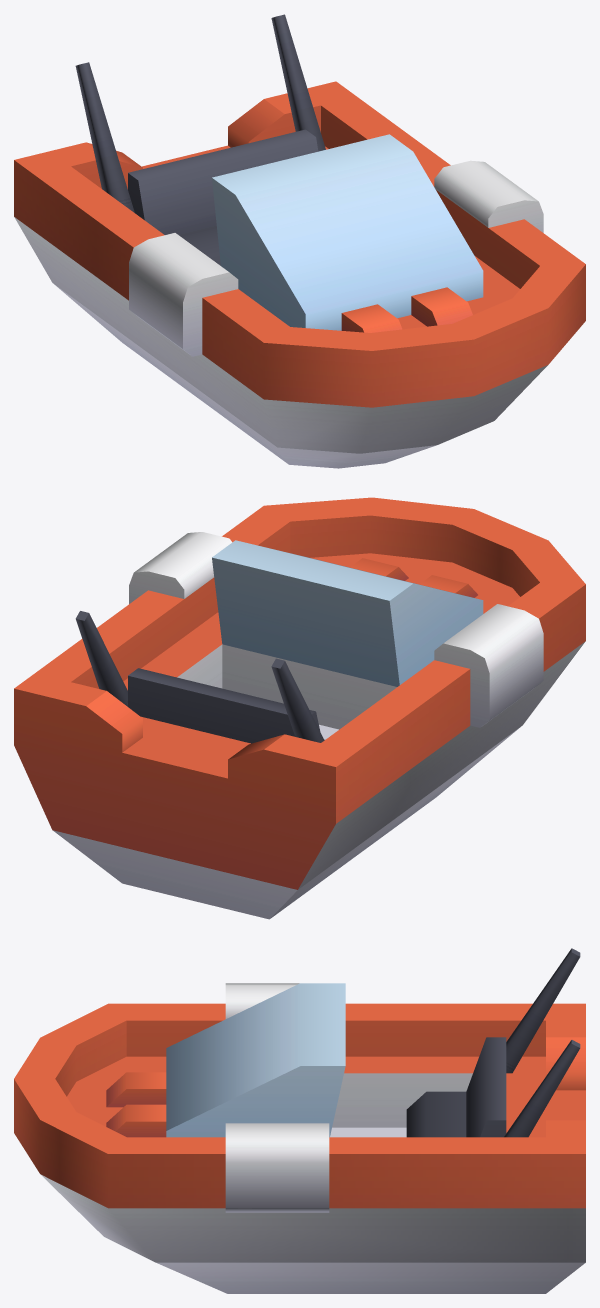
File: boat-speed-e.glb
The picture shows the model from 3 angles, top to bottom: view 1: azimuth 30°, elevation 25°; view 2: azimuth 150°, elevation 25°; view 3: azimuth 270°, elevation 25°; orthographic projection. The views are drawn at different scales.
Parts seen in each view (by area): view 1: boat-speed-e; view 2: boat-speed-e; view 3: boat-speed-e.
Boxes of the visible parts, x1,y1,x2,y2 form: boat-speed-e: [14, 14, 585, 468]; boat-speed-e: [14, 497, 585, 919]; boat-speed-e: [14, 948, 585, 1293].
Bounding box in the file's own units: 2 × 1.46 × 2.87.
Materials: 1 (1 with a texture image).
